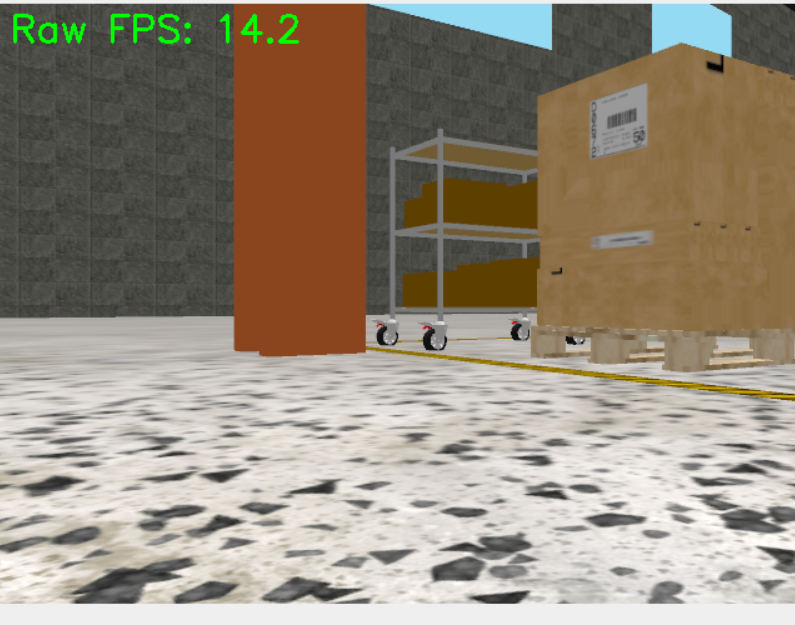barcode: (589, 82, 648, 159)
